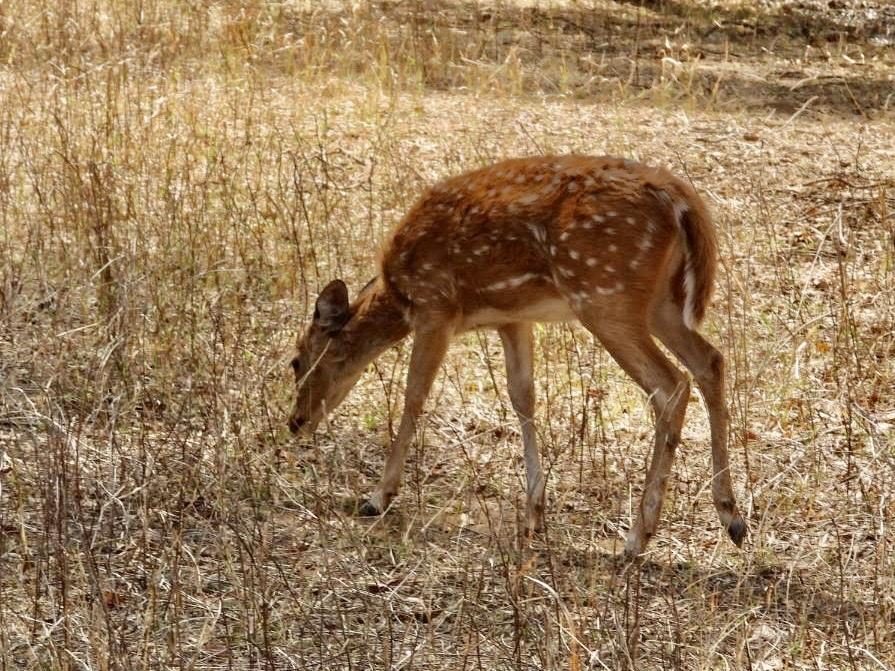Deer: (288, 155, 746, 555)
